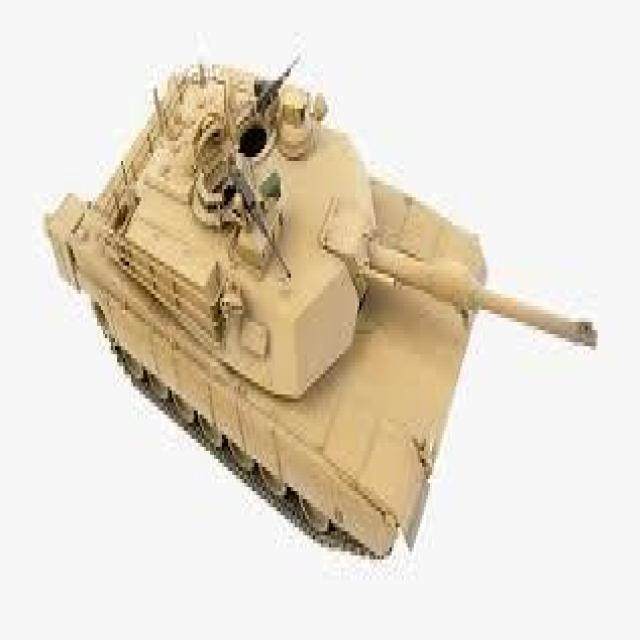MIL_MBT: (43, 46, 603, 545)
